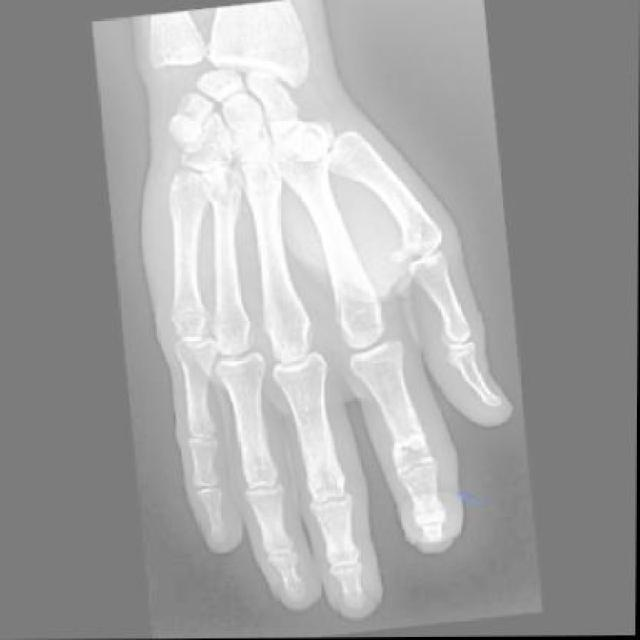Fracture: (391, 440, 438, 478)
